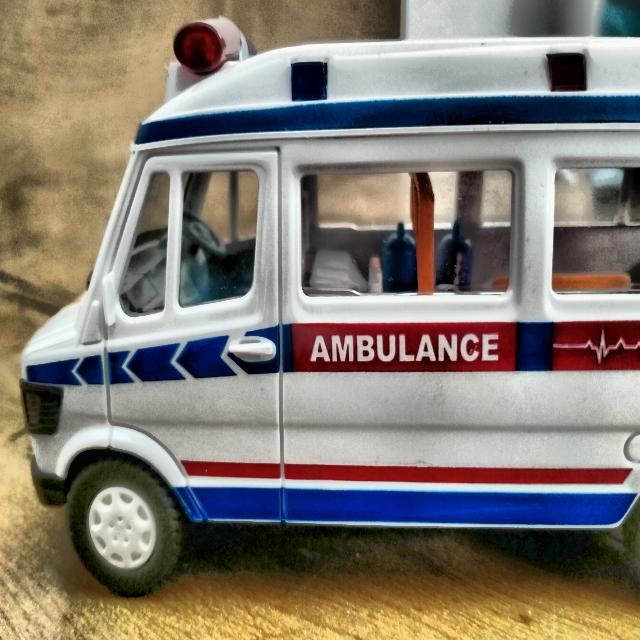Ambulance: (20, 6, 640, 623)
